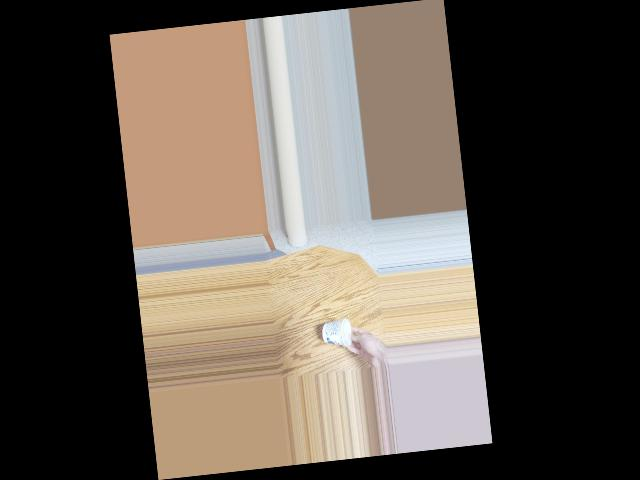cotage: (322, 318, 355, 351)
